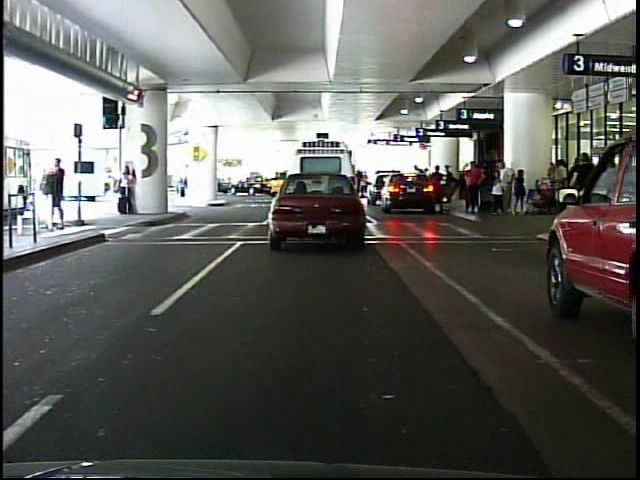person: (568, 148, 603, 229), (47, 152, 71, 234), (117, 161, 139, 217), (168, 159, 195, 202), (465, 160, 483, 215)
